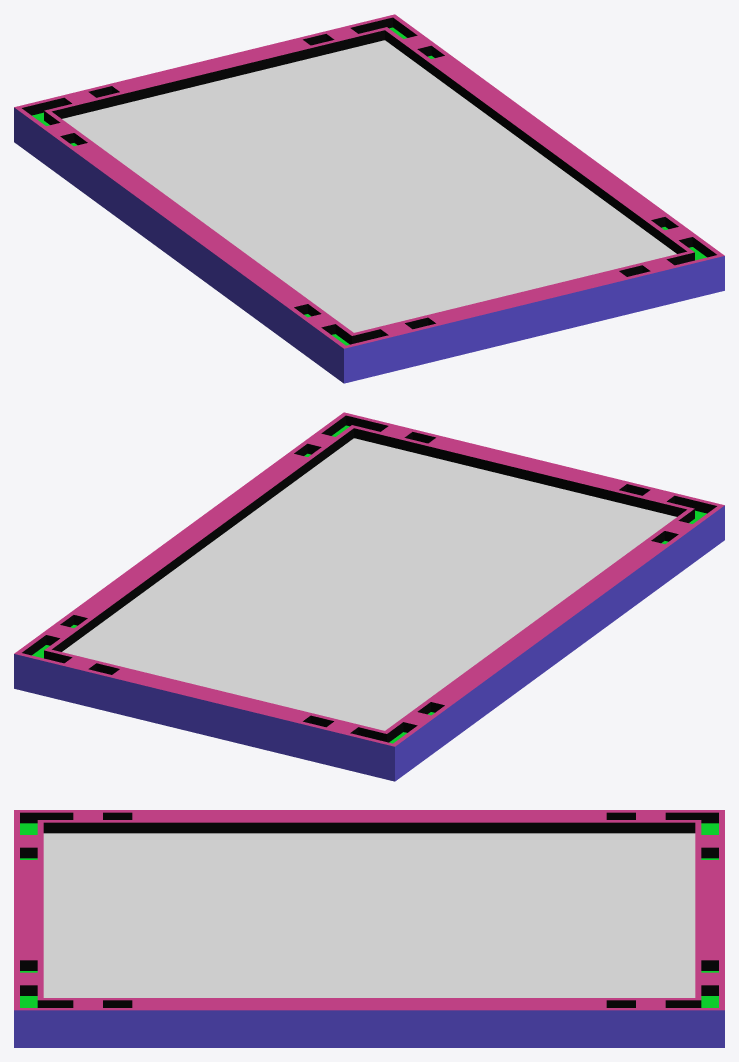
The model's file is Board.fbx.
The picture shows the model from 3 angles, top to bottom: view 1: azimuth 30°, elevation 25°; view 2: azimuth 150°, elevation 25°; view 3: azimuth 270°, elevation 25°; orthographic projection. The views are drawn at different scales.
Visible parts, largest first — view 1: Cube; view 2: Cube; view 3: Cube.
Part boxes in pixels (x1,y1,x2,y2): Cube: (14,14,724,383); Cube: (14,412,724,781); Cube: (14,810,724,1047).
Size of the model in its own units: 400 by 35 by 600.
